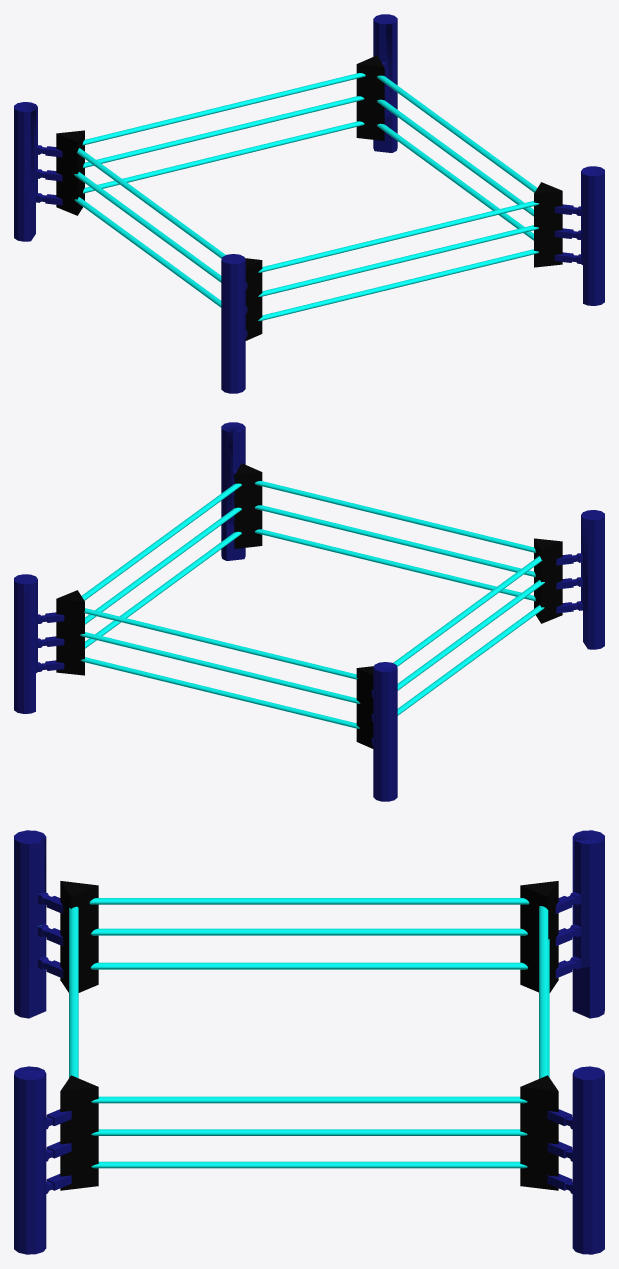
The model's file is ring_other.obj.
3 views of the same model, one above another, from view 1: azimuth 30°, elevation 25°; view 2: azimuth 150°, elevation 25°; view 3: azimuth 270°, elevation 25° (orthographic). The views are drawn at different scales.
Visible parts, largest first — view 1: ring_other; view 2: ring_other; view 3: ring_other.
Boxes of the visible parts, <box> form: ring_other: <box>14,14,604,393</box>; ring_other: <box>14,422,604,801</box>; ring_other: <box>14,830,604,1254</box>.
Bounding box in the file's own units: 10.79 × 3.51 × 10.79.
Materials: 1 (1 with a texture image).
